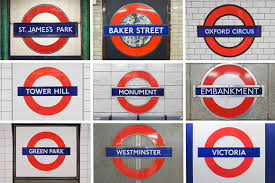London Underground: (194, 65, 264, 117), (196, 4, 262, 57), (106, 125, 172, 178), (104, 3, 168, 56), (13, 4, 78, 53), (199, 127, 261, 177), (17, 67, 78, 115), (111, 71, 163, 112), (21, 132, 71, 172)
